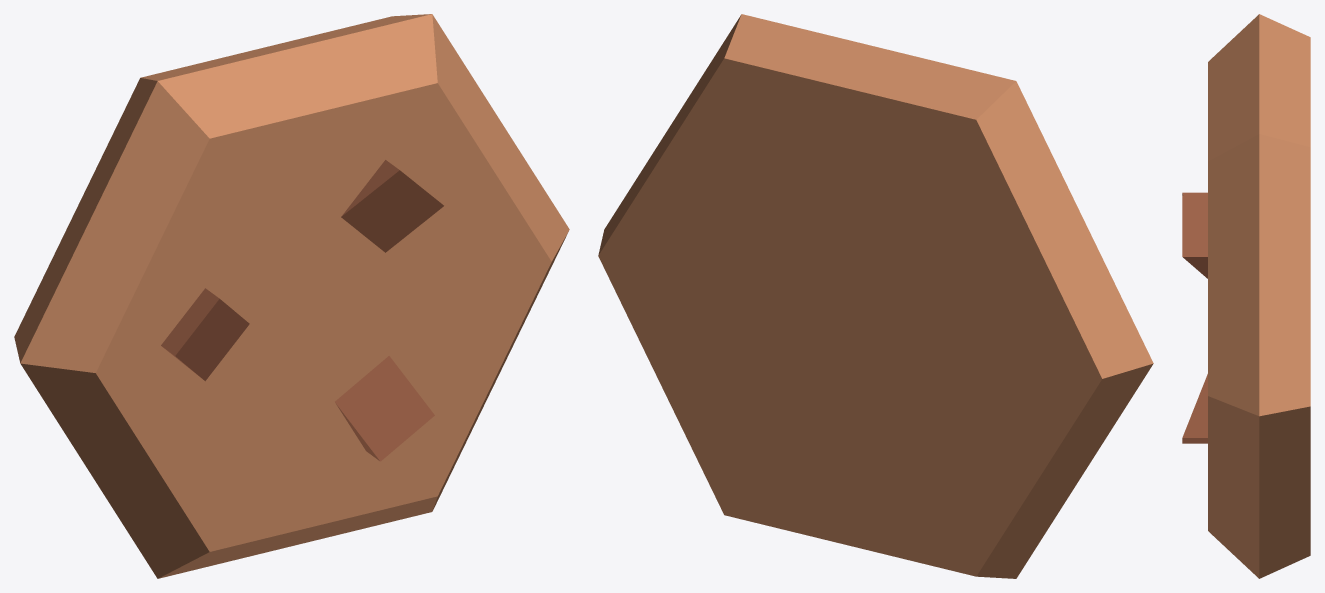
Rendered from cookie.obj.
The picture shows the model from 3 angles, left to right: view 1: azimuth 30°, elevation 25°; view 2: azimuth 150°, elevation 25°; view 3: azimuth 270°, elevation 25°; orthographic projection. The views are drawn at different scales.
Visible parts, largest first — view 1: cookie; view 2: cookie; view 3: cookie.
Boxes of the visible parts, x1,y1,x2,y2 form: cookie: [14, 14, 569, 578]; cookie: [598, 14, 1153, 578]; cookie: [1182, 14, 1310, 578].
Bounding box in the file's own units: 0.0549 × 0.0476 × 0.0124.
